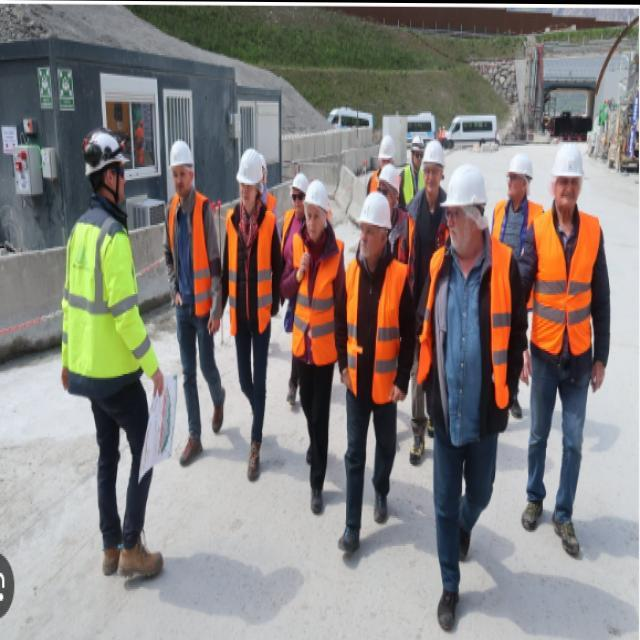hard_hat: (436, 161, 493, 255), (82, 128, 133, 208), (548, 140, 589, 216), (354, 189, 395, 262), (236, 144, 268, 215), (303, 178, 334, 243), (502, 146, 536, 205), (168, 135, 198, 200), (421, 136, 447, 202), (377, 161, 403, 216), (290, 168, 312, 221), (408, 127, 427, 175), (377, 132, 397, 171), (253, 148, 269, 196)
shoes: (430, 494, 476, 634), (334, 477, 393, 556), (519, 486, 581, 559), (98, 529, 166, 584), (180, 384, 226, 464), (405, 406, 447, 467), (304, 439, 331, 518), (245, 403, 270, 484)
vest: (59, 191, 161, 402), (418, 236, 515, 410), (527, 205, 603, 362), (343, 249, 411, 408), (290, 223, 346, 370), (225, 198, 277, 338), (167, 187, 217, 321), (493, 194, 546, 314), (281, 202, 322, 301), (365, 171, 399, 227), (402, 163, 430, 221)
